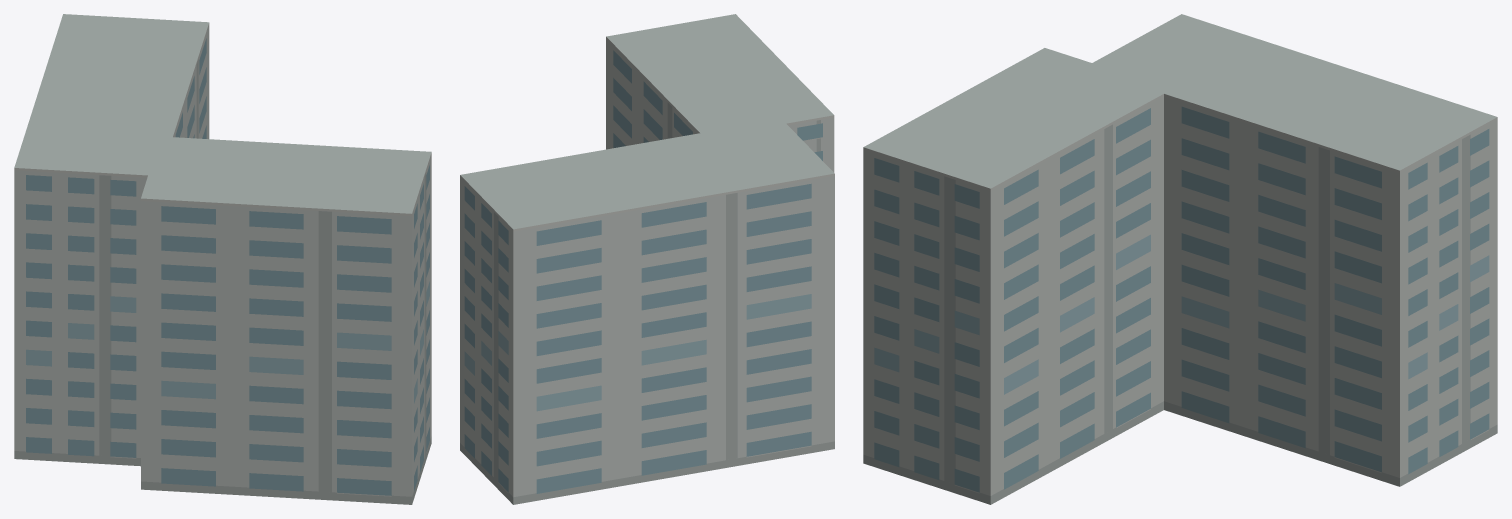
File: residential-2a836244-111b-4108-b39c-9512c8dc6d5c.glb
3 views of the same model, side by side, from view 1: azimuth 30°, elevation 25°; view 2: azimuth 150°, elevation 25°; view 3: azimuth 270°, elevation 25° (orthographic). The views are drawn at different scales.
Visible parts, largest first — view 1: residential-2a836244-111b-4108-b39c-9512c8dc6d5c.tmp; view 2: residential-2a836244-111b-4108-b39c-9512c8dc6d5c.tmp; view 3: residential-2a836244-111b-4108-b39c-9512c8dc6d5c.tmp.
Boxes of the visible parts, x1=… form: residential-2a836244-111b-4108-b39c-9512c8dc6d5c.tmp: x1=14, y1=14, x2=431, y2=504; residential-2a836244-111b-4108-b39c-9512c8dc6d5c.tmp: x1=460, y1=14, x2=834, y2=504; residential-2a836244-111b-4108-b39c-9512c8dc6d5c.tmp: x1=863, y1=14, x2=1497, y2=504.
Bounding box in the file's own units: 34.37 × 29 × 52.73.
